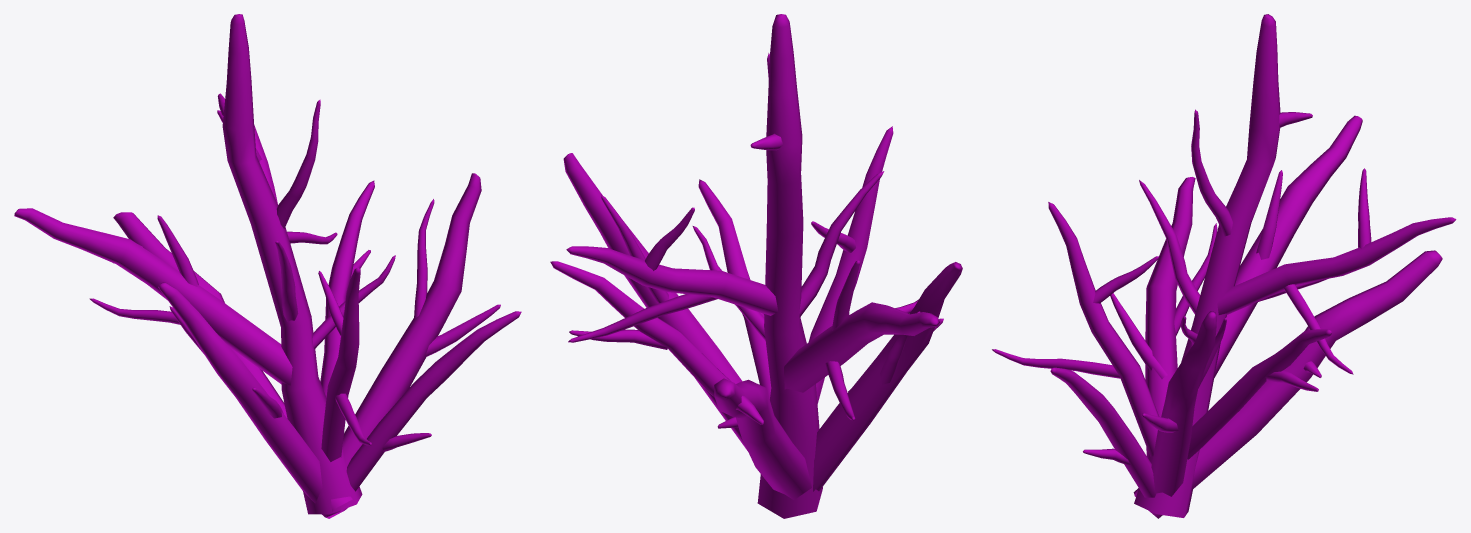
The model's file is Coral_Tree_2.fbx.
3 views of the same model, side by side, from view 1: azimuth 30°, elevation 25°; view 2: azimuth 150°, elevation 25°; view 3: azimuth 270°, elevation 25° (orthographic). The views are drawn at different scales.
Parts seen in each view (by area): view 1: Coral_Tree_2; view 2: Coral_Tree_2; view 3: Coral_Tree_2.
Boxes of the visible parts, bbox=[...] form: Coral_Tree_2: bbox=[14, 14, 521, 518]; Coral_Tree_2: bbox=[550, 14, 962, 518]; Coral_Tree_2: bbox=[992, 14, 1456, 518].
Bounding box in the file's own units: 27.12 × 31.28 × 27.35.
